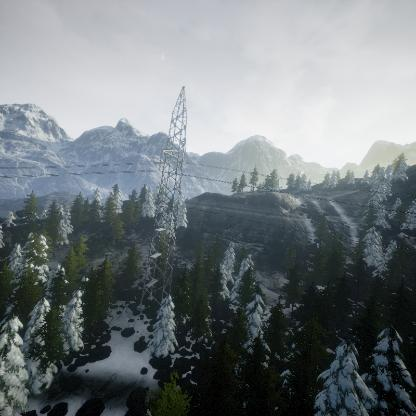tower: (135, 84, 192, 312)
